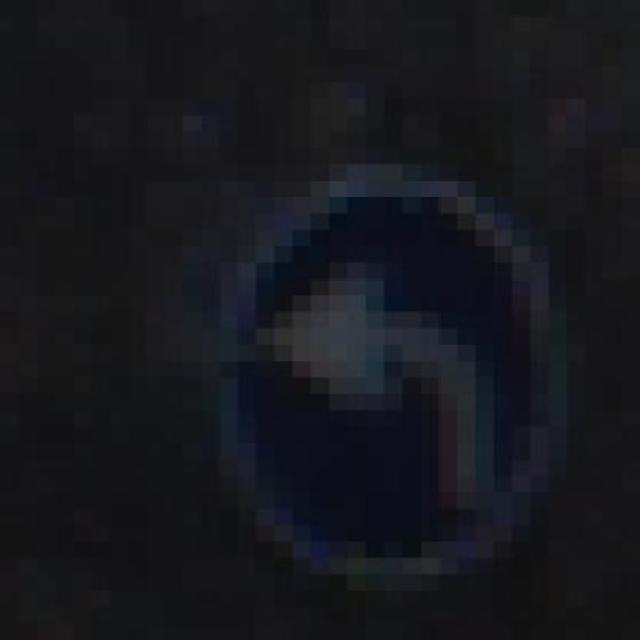Turn left ahead: (220, 131, 586, 591)
